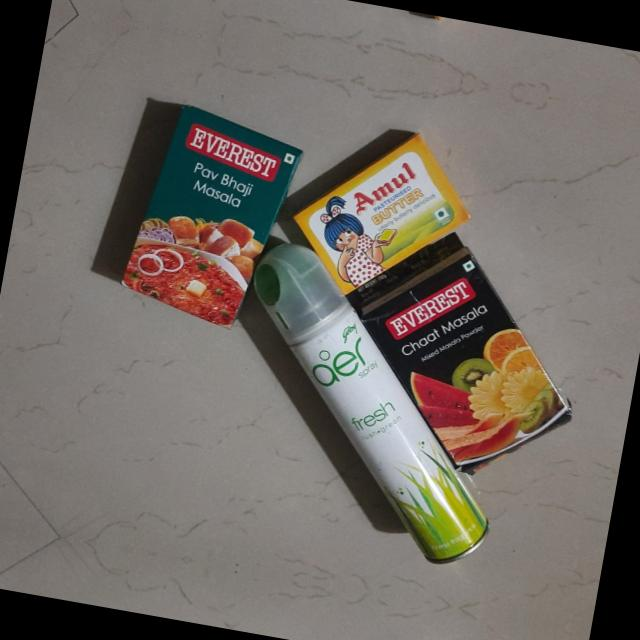Aer Matic Violet Valley Bloom Automatic Spray Diffuser Refill 225 ml: (206, 242, 532, 568)
Amul Butter: (279, 113, 482, 314)
Everest Chaat Masala 50 g: (332, 228, 598, 486)
Everest Pav Bhaji Masala 100 g: (114, 90, 306, 330)
